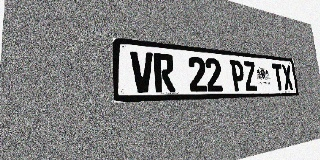2: (188, 56, 207, 92), (205, 57, 223, 92)
P: (230, 60, 246, 91)
R: (153, 53, 176, 93)
T: (272, 63, 285, 90)
V: (130, 51, 154, 93)
X: (281, 64, 294, 90)
Z: (243, 61, 258, 91)
